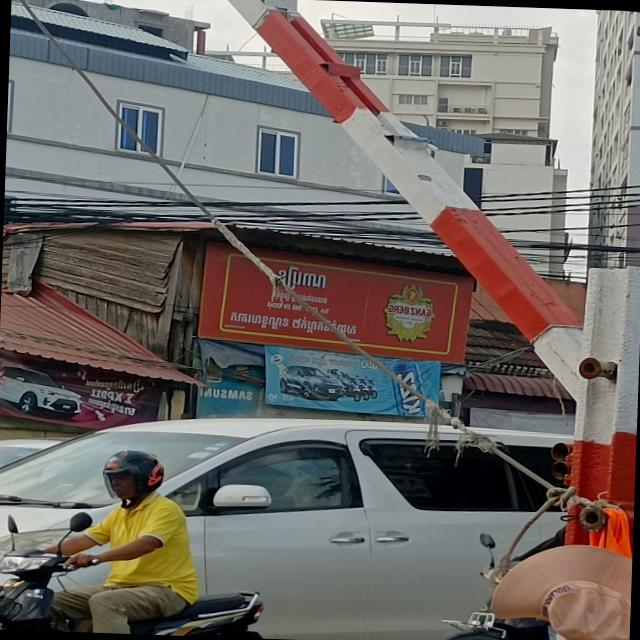1: (226, 307, 361, 338)
Yolov11kh: (273, 261, 332, 292)
